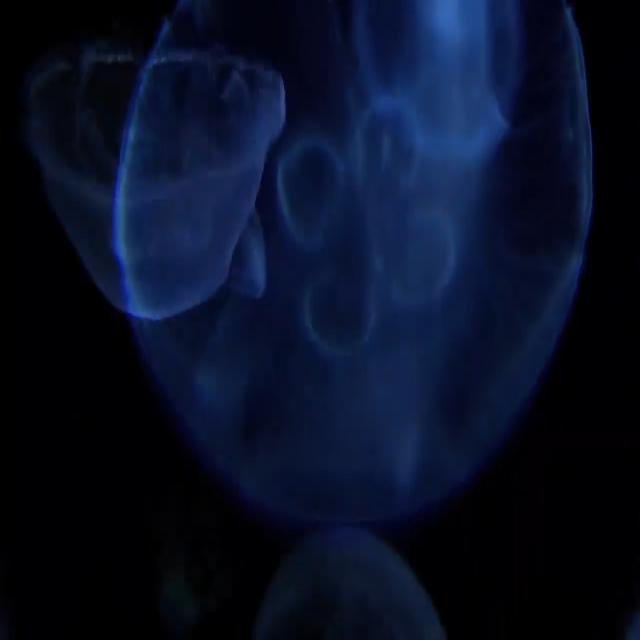Moon-jellyfish: (0, 0, 596, 639)
